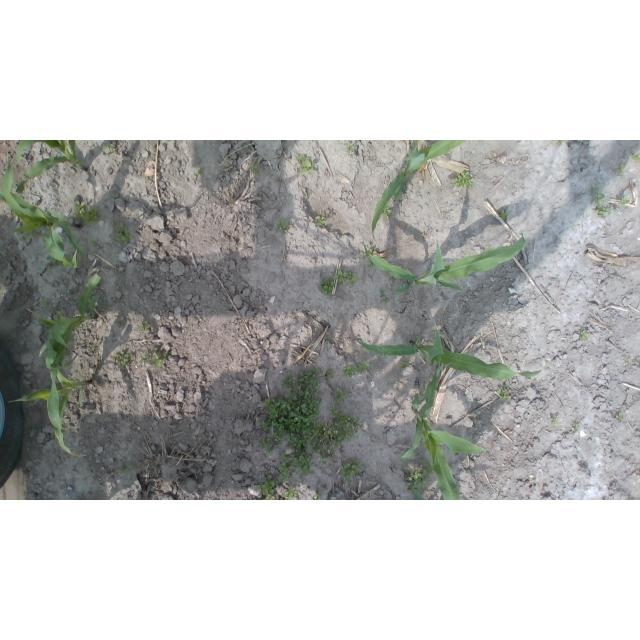Maize: (400, 316, 492, 500), (25, 269, 99, 434), (345, 321, 552, 379), (1, 150, 88, 270), (371, 140, 470, 242), (364, 231, 527, 291), (9, 339, 89, 456), (15, 141, 88, 194)
Weeds: (256, 366, 322, 482), (315, 405, 362, 465), (404, 458, 435, 490), (589, 185, 611, 219), (73, 200, 101, 226), (340, 459, 363, 484), (257, 475, 276, 500), (333, 267, 358, 285), (114, 223, 134, 245), (294, 154, 315, 174), (451, 172, 474, 188), (114, 351, 135, 368), (152, 348, 169, 368), (318, 278, 335, 297), (275, 218, 294, 234), (496, 379, 510, 400), (615, 198, 630, 215), (284, 486, 299, 500), (335, 388, 348, 404), (342, 365, 358, 377), (46, 255, 63, 266), (363, 244, 377, 257), (20, 229, 38, 239), (379, 289, 390, 303), (345, 140, 356, 153), (138, 321, 150, 332), (358, 362, 370, 373), (579, 328, 590, 340), (314, 216, 326, 227), (381, 208, 391, 221), (249, 162, 258, 175), (41, 299, 52, 309), (121, 463, 132, 473), (617, 164, 628, 174), (140, 354, 149, 365), (326, 369, 335, 380), (102, 142, 114, 150), (550, 417, 559, 427), (500, 209, 509, 219), (314, 492, 323, 501), (399, 360, 409, 368), (89, 237, 98, 245), (615, 414, 623, 423), (633, 152, 640, 162), (414, 336, 423, 343), (367, 261, 375, 268), (193, 168, 201, 175), (557, 140, 566, 146), (44, 264, 51, 271), (92, 341, 97, 347), (576, 424, 581, 430), (628, 360, 633, 365), (550, 141, 556, 144)
